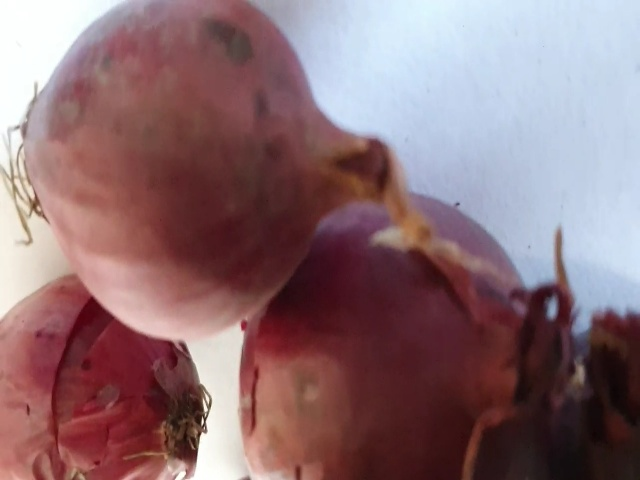red_onion: (3, 2, 404, 335), (329, 214, 583, 476), (1, 333, 204, 479)
